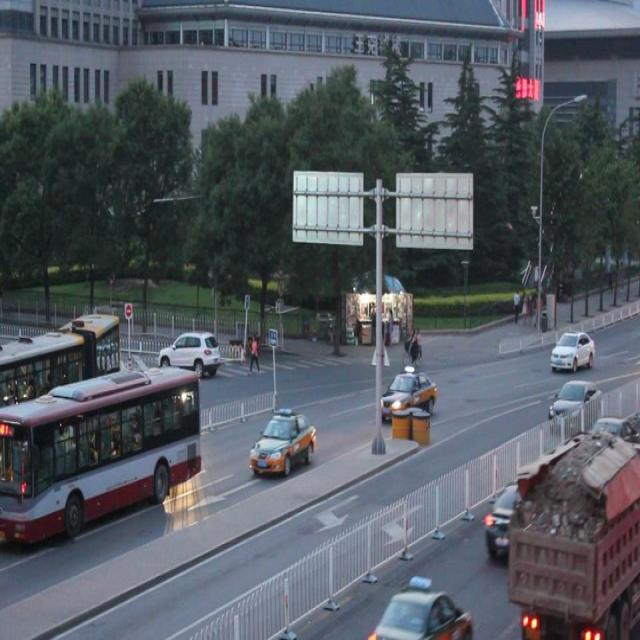bus: (507, 428, 640, 640)
car: (369, 571, 472, 640), (484, 482, 557, 562), (248, 401, 316, 478), (376, 361, 438, 428), (158, 328, 219, 374), (548, 374, 598, 424), (548, 327, 594, 376), (125, 354, 170, 400)
van: (1, 365, 201, 540), (1, 312, 122, 419)
